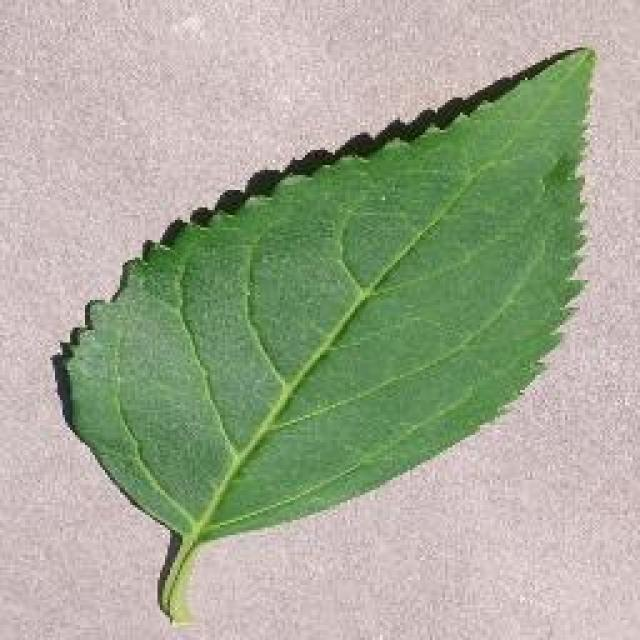Cherry___healthy: (69, 82, 569, 530)
